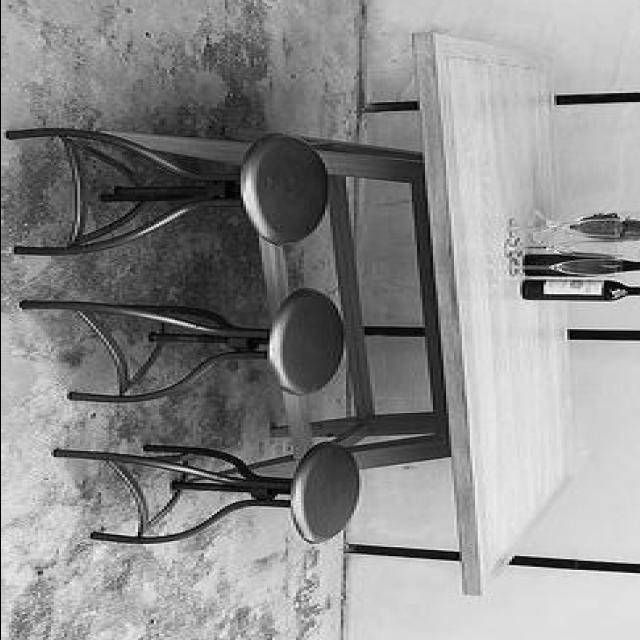chair: (4, 126, 333, 256), (15, 286, 349, 410), (46, 439, 372, 553)
table: (100, 25, 590, 598)
